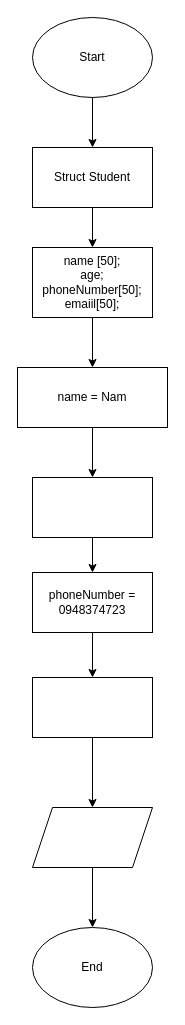
This 185x1025 diagram has some shape labels left out. Each missing label, with the centre of its shape:
age = 25: (x=92, y=507)
email = nam2374@.com: (x=92, y=707)
printf name,age, phoneNumber; email: (x=92, y=837)
